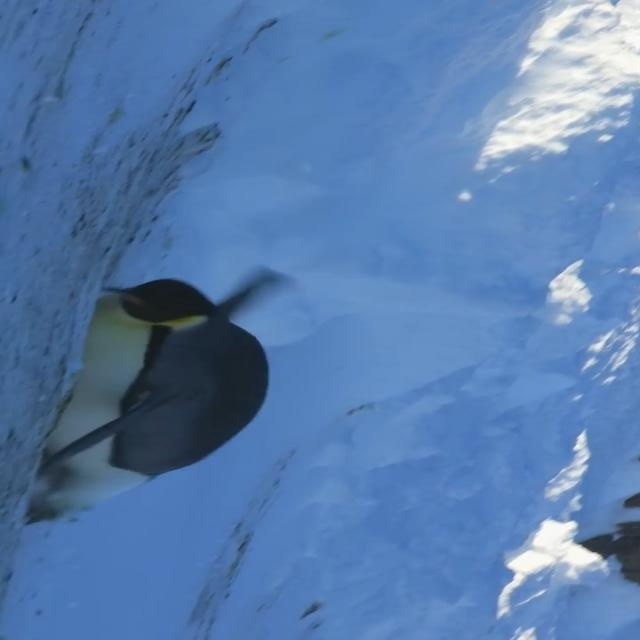penguin: (24, 275, 270, 525)
